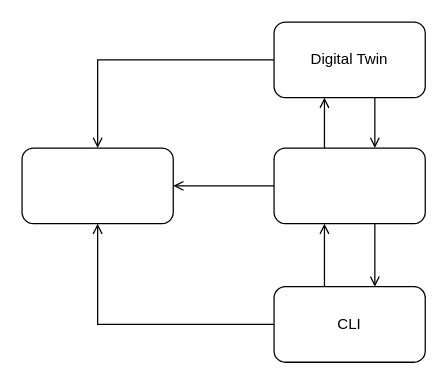
The diagram is 447 pixels wide and 384 high, and some of its shapes have lost their labels. Each missing label, with the centre of its shape:
API: the point at 349,185
Greenhouse Lib: the point at 97,185
